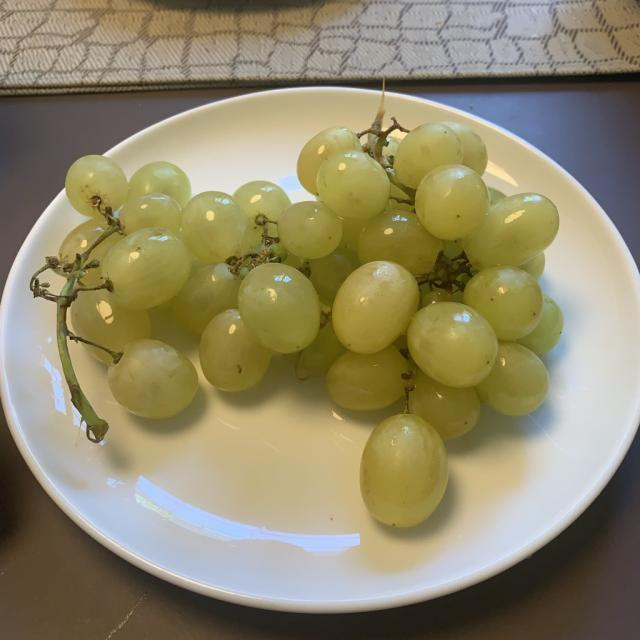Grapes: (34, 108, 569, 538)
